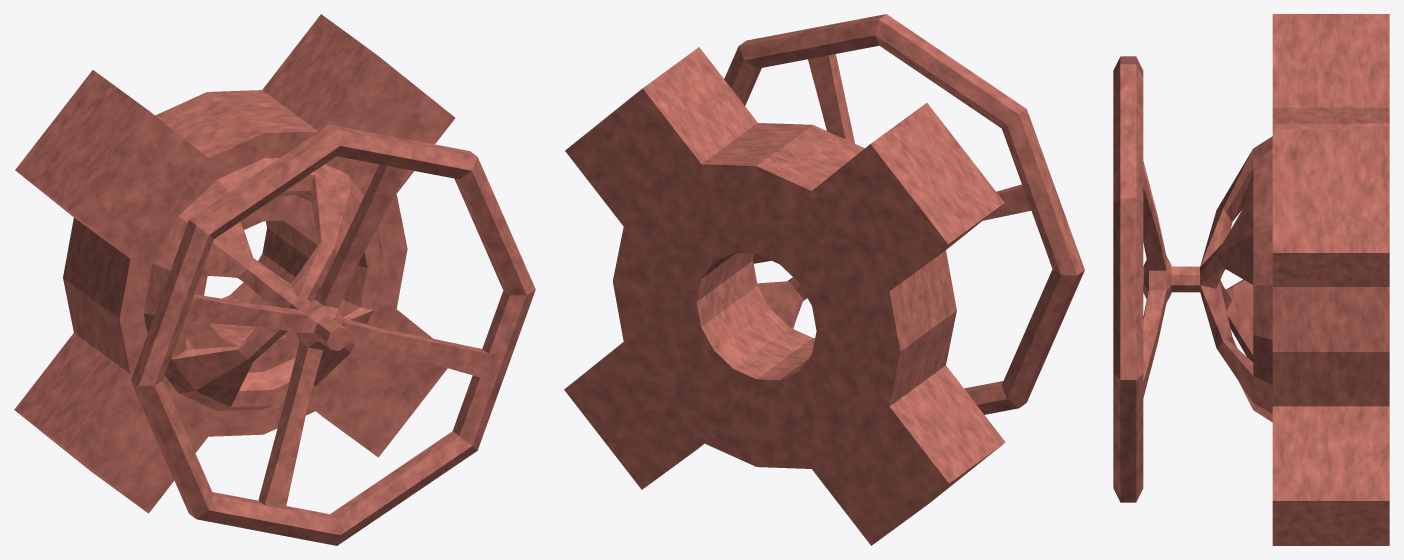
The model's file is SpecialKey-Assembled.fbx.
3 views of the same model, side by side, from view 1: azimuth 30°, elevation 25°; view 2: azimuth 150°, elevation 25°; view 3: azimuth 270°, elevation 25° (orthographic). The views are drawn at different scales.
Parts seen in each view (by area): view 1: Key-Assembled; view 2: Key-Assembled; view 3: Key-Assembled.
Part boxes in pixels (x1,y1,x2,y2): Key-Assembled: [14, 14, 535, 545]; Key-Assembled: [564, 14, 1084, 545]; Key-Assembled: [1113, 14, 1389, 545].
Size of the model in its own units: 81.11 by 81.11 by 47.21.
Materials: 1 (1 with a texture image).
